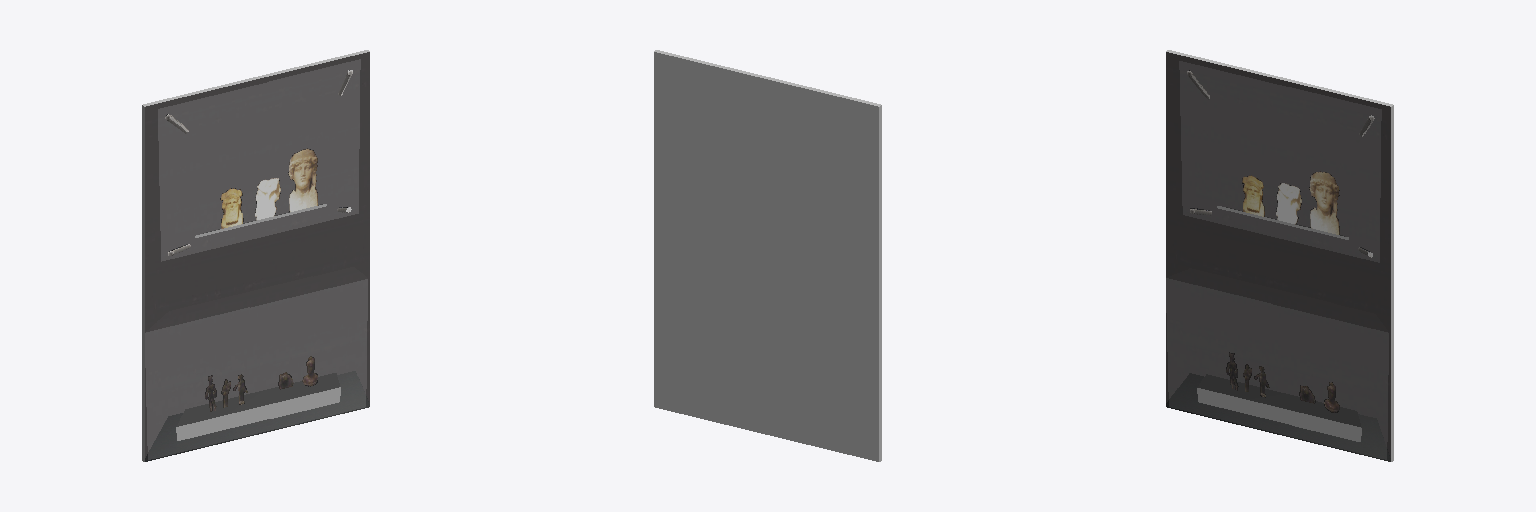
3 views of the same model, side by side, from view 1: azimuth 30°, elevation 25°; view 2: azimuth 150°, elevation 25°; view 3: azimuth 330°, elevation 25° (orthographic).
Parts seen in each view (by area): view 1: SketchUp.001_ID10, SketchUp_ID2; view 2: SketchUp_ID2; view 3: SketchUp.001_ID10, SketchUp_ID2.
Boxes of the visible parts, x1,y1,x2,y2 form: SketchUp.001_ID10: [145, 52, 369, 461]; SketchUp_ID2: [142, 50, 369, 461]; SketchUp_ID2: [654, 50, 881, 461]; SketchUp.001_ID10: [1166, 52, 1390, 461]; SketchUp_ID2: [1166, 50, 1393, 461].
Bounding box in the file's own units: 188 × 283 × 3.94.
Materials: 2 (1 with a texture image).